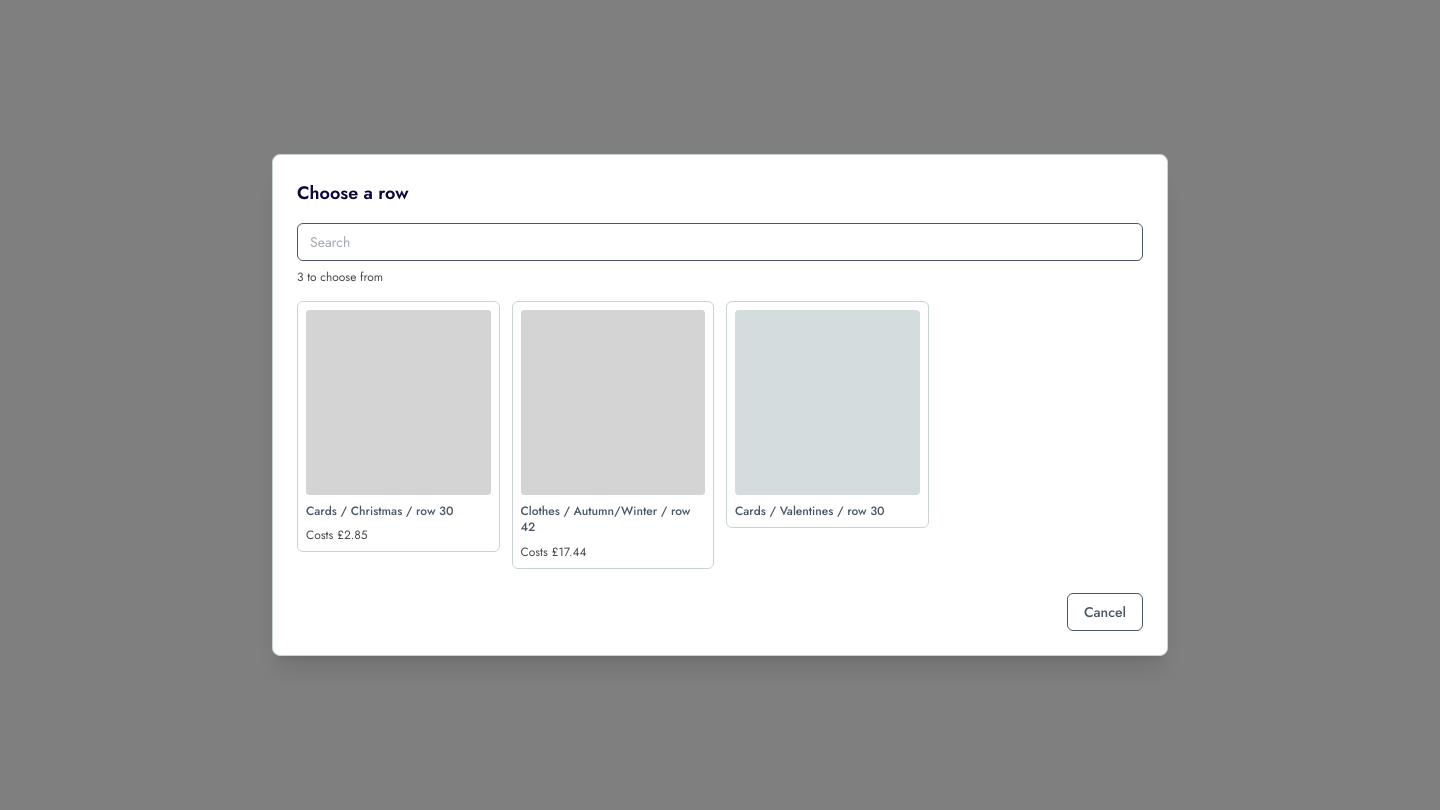
it: PhotoChooser › narrows the choices by any word it knows about them
This screenshot has width=1440, height=810.
Type "booties" into the search field. click: coordinates (720, 242)
box: [297,223,1143,261]
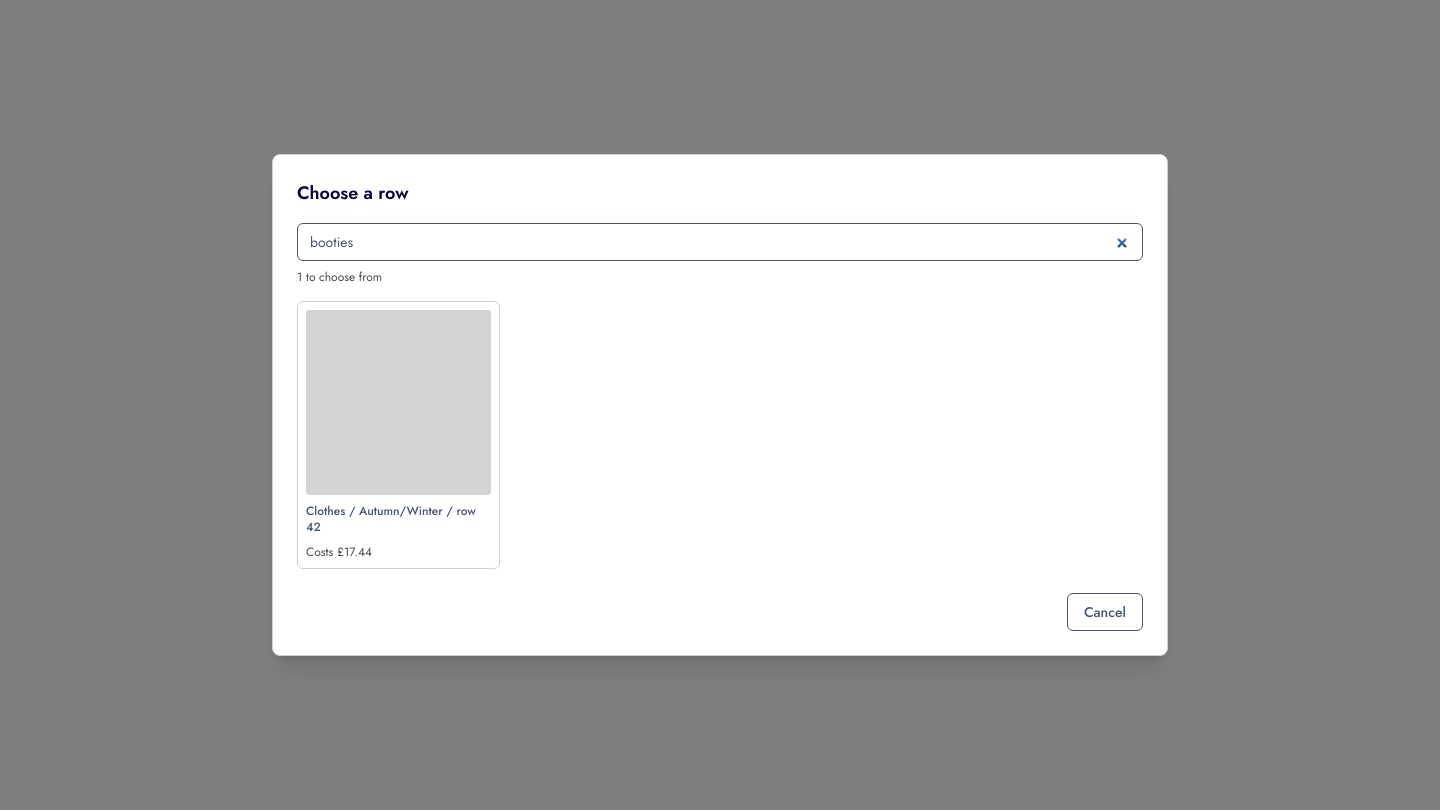
Expected: the button "Christmas" is gone
